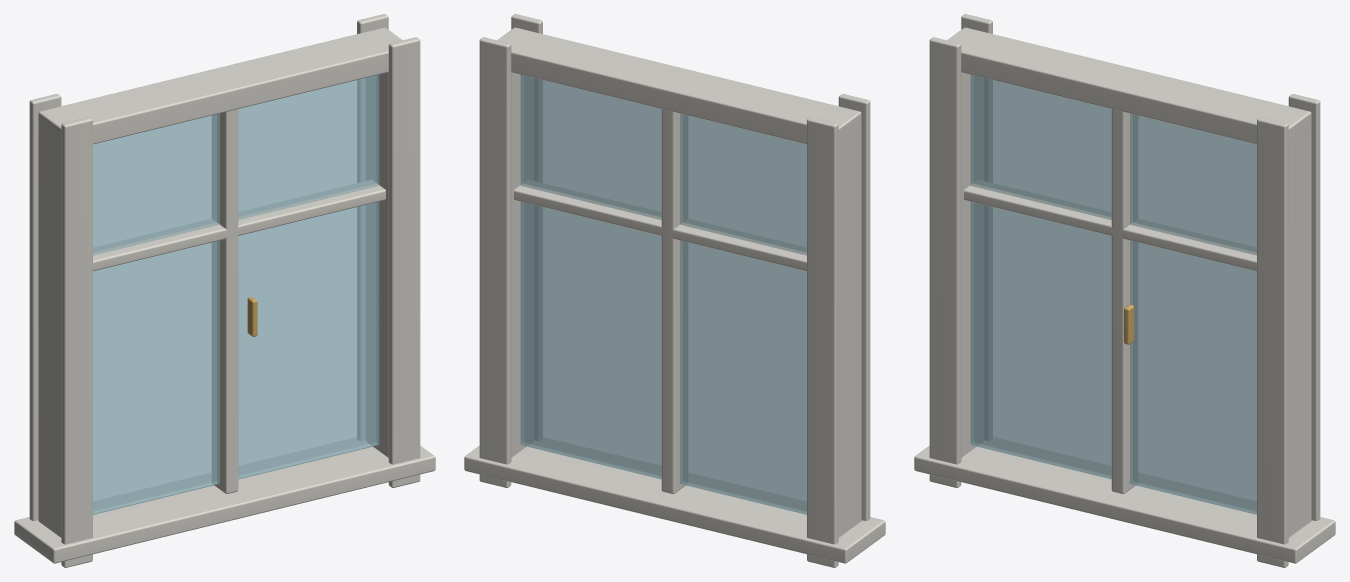
Rendered from window-cottage.glb.
The picture shows the model from 3 angles, left to right: view 1: azimuth 30°, elevation 25°; view 2: azimuth 150°, elevation 25°; view 3: azimuth 330°, elevation 25°; orthographic projection.
Visible parts, largest first — view 1: Glazing.009, Sill.009, Lintel.019, Architrave.078, Architrave.076, Mullion.008, Jamb.038, Jamb.039, Transom.004, Architrave.077, Architrave.079; view 2: Glazing.009, Sill.009, Lintel.019, Architrave.079, Architrave.077, Mullion.008, Jamb.038, Jamb.039, Transom.004, Architrave.076, Architrave.078; view 3: Glazing.009, Sill.009, Lintel.019, Architrave.076, Architrave.078, Jamb.039, Mullion.008, Jamb.038, Transom.004, Architrave.079, Architrave.077.
Part boxes in pixels (x1,y1,x2,y2): Glazing.009: (93, 74, 379, 514); Sill.009: (14, 437, 435, 563); Lintel.019: (38, 27, 402, 147); Architrave.078: (388, 37, 420, 487); Architrave.076: (61, 117, 92, 567); Mullion.008: (212, 109, 238, 493); Jamb.038: (38, 113, 61, 537); Jamb.039: (366, 72, 388, 457); Transom.004: (93, 180, 385, 271); Architrave.077: (29, 94, 61, 521); Architrave.079: (357, 14, 388, 440); Glazing.009: (520, 74, 806, 514); Sill.009: (464, 437, 885, 563); Lintel.019: (497, 27, 861, 147); Architrave.079: (479, 37, 511, 487); Architrave.077: (807, 117, 838, 567); Mullion.008: (661, 109, 687, 493); Jamb.038: (838, 112, 861, 537); Jamb.039: (511, 72, 533, 457); Transom.004: (514, 180, 806, 271); Architrave.076: (838, 94, 870, 521); Architrave.078: (511, 14, 542, 440); Glazing.009: (970, 74, 1256, 514); Sill.009: (914, 437, 1335, 563); Lintel.019: (947, 27, 1311, 147); Architrave.076: (929, 37, 961, 487); Architrave.078: (1257, 117, 1288, 567); Jamb.039: (1288, 112, 1311, 537); Mullion.008: (1111, 109, 1137, 493); Jamb.038: (961, 72, 983, 457); Transom.004: (964, 180, 1256, 271); Architrave.079: (1288, 94, 1320, 521); Architrave.077: (961, 14, 992, 440).
Size of the model in its own units: 1.32 by 1.46 by 0.24.
